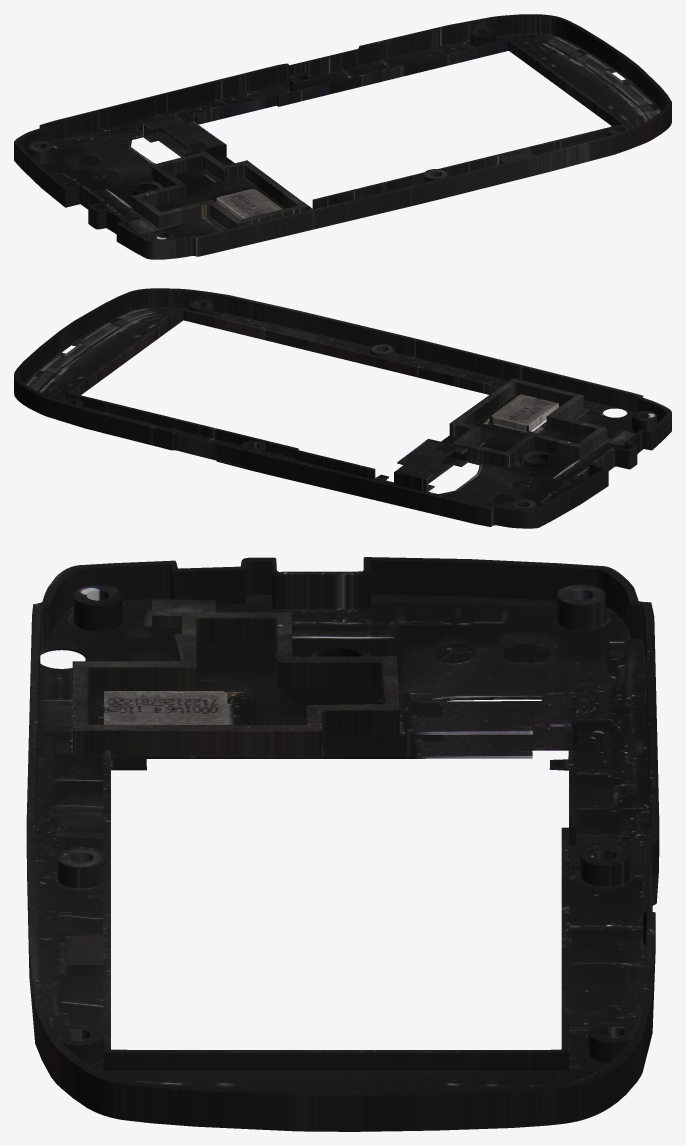
Rendered from Phone 01 Layer 06.obj.
The picture shows the model from 3 angles, top to bottom: view 1: azimuth 30°, elevation 25°; view 2: azimuth 150°, elevation 25°; view 3: azimuth 270°, elevation 25°; orthographic projection. The views are drawn at different scales.
Size of the model in its own units: 1128 by 42.45 by 559.
1 material, 1 textured.
